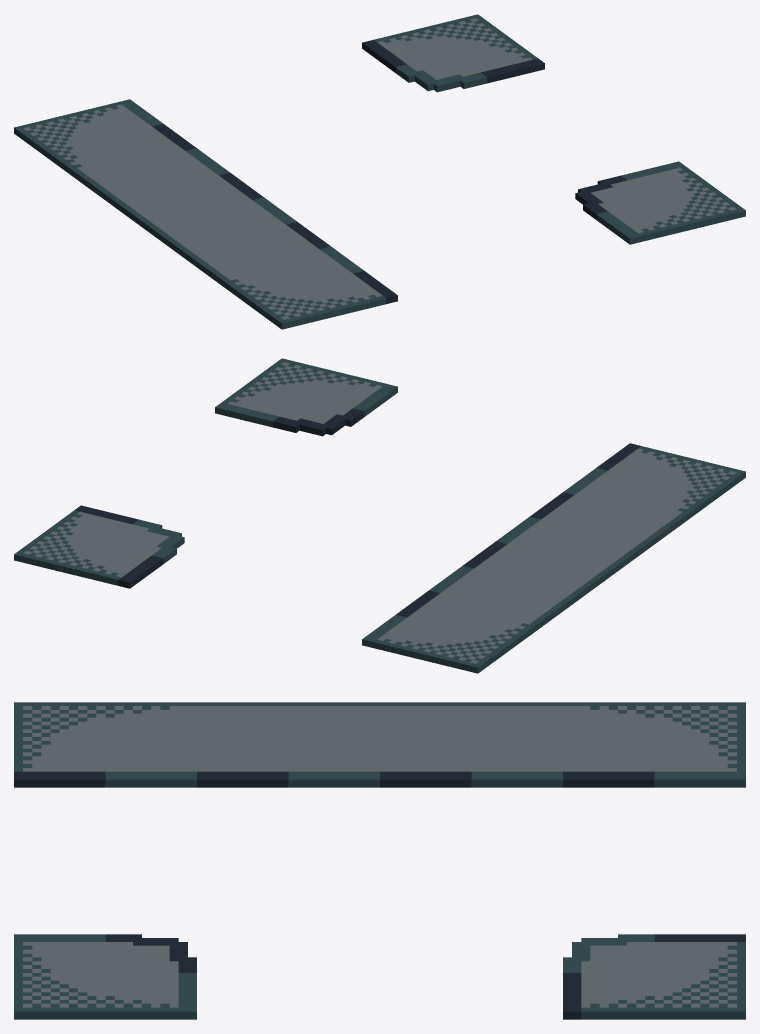
File: road_3_overtile.obj
3 views of the same model, one above another, from view 1: azimuth 30°, elevation 25°; view 2: azimuth 150°, elevation 25°; view 3: azimuth 270°, elevation 25° (orthographic). The views are drawn at different scales.
Bounding box in the file's own units: 8 × 0.1 × 8.
Materials: 1 (1 with a texture image).
